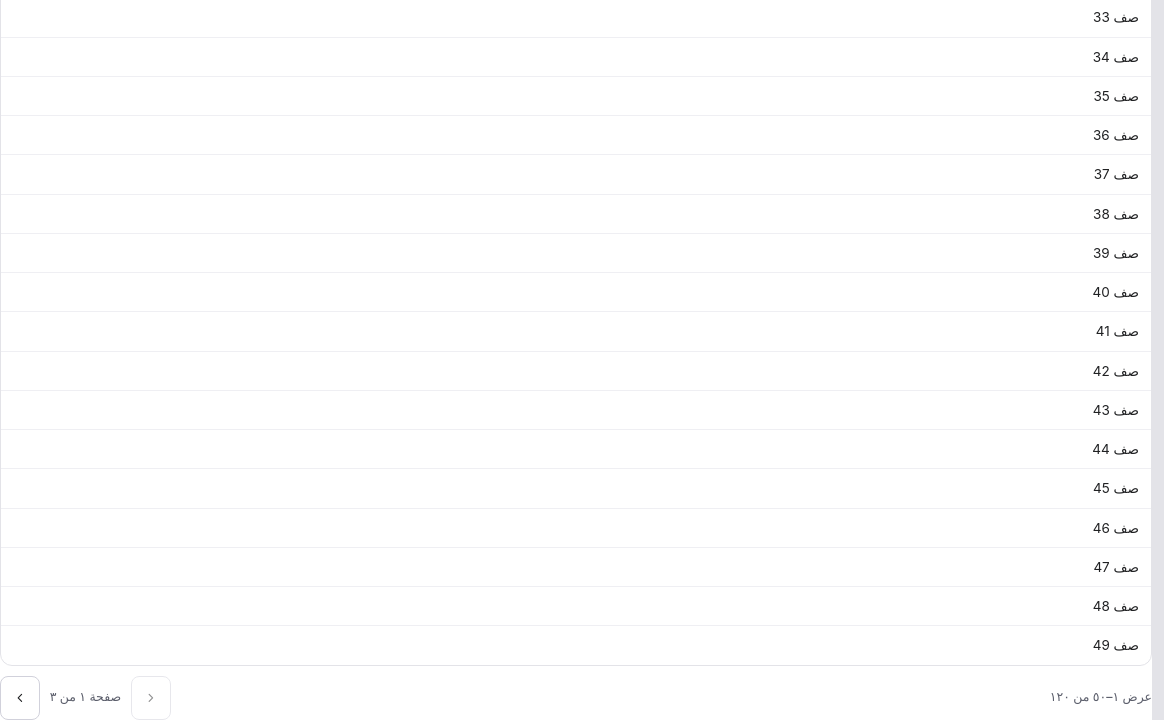
Test: imd_table_pagination_test › «التالي» ينتقل للصفحة التالية بفهرسٍ مطلق لا محلي
(page scrolled)
Click the button named "الصفحة التالية" at x=20, y=698, box [0,676,40,719]
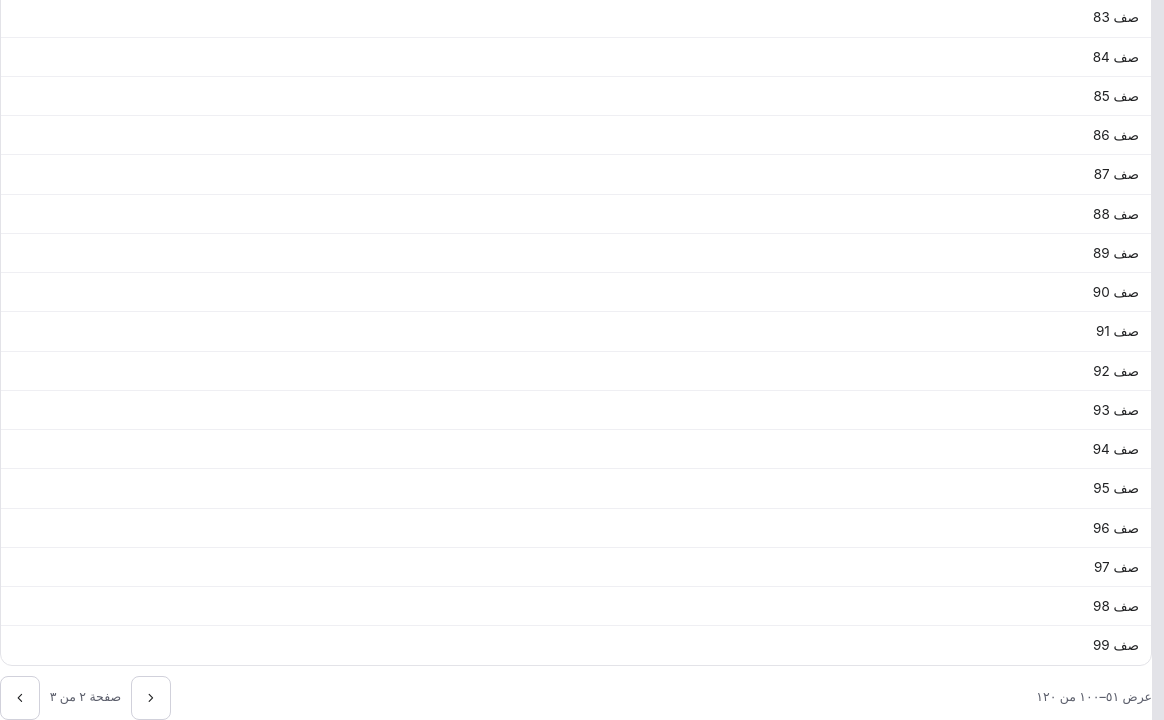
Expected: the text "صف 99" is shown, [1093,637,1139,653]
Expected: the text "صفحة ٢ من ٣" is shown, [50,689,121,704]
Click the button named "الصفحة التالية" at x=20, y=698, box [0,676,40,719]
(page scrolled)
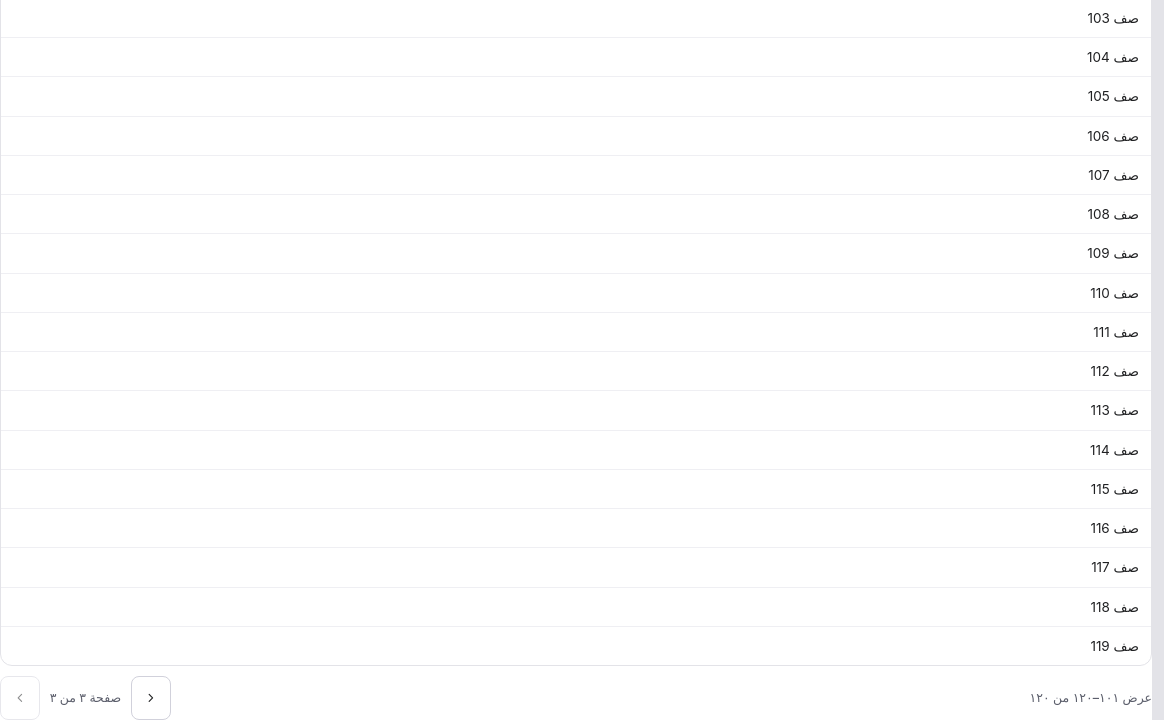
Expected: the text "صف 119" is shown, [1090,638,1139,654]
Expected: the text "صفحة ٣ من ٣" is shown, [50,690,121,705]
